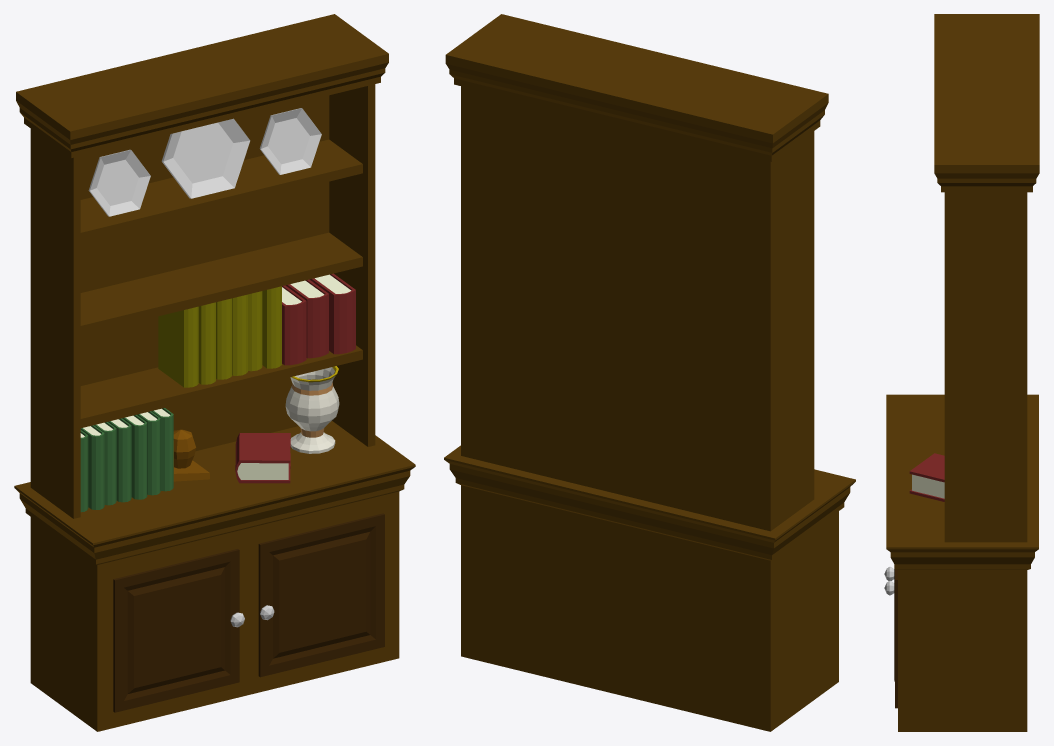
Rendered from cabinet_shelves.fbx.
3 views of the same model, side by side, from view 1: azimuth 30°, elevation 25°; view 2: azimuth 150°, elevation 25°; view 3: azimuth 270°, elevation 25° (orthographic). The views are drawn at different scales.
Visible parts, largest first — view 1: shelves_short, cabinet, doors, plates, yellow_section, green_section, red_section, vase1, book_red_turned, bookend_r; view 2: shelves_short, cabinet; view 3: shelves_short, cabinet, book_red_turned, doors.
Boxes of the visible parts, bbox=[...] form: shelves_short: bbox=[16, 14, 388, 518]; cabinet: bbox=[14, 421, 415, 731]; doors: bbox=[113, 513, 384, 712]; plates: bbox=[88, 108, 321, 216]; yellow_section: bbox=[158, 286, 281, 387]; green_section: bbox=[80, 408, 173, 512]; red_section: bbox=[282, 273, 355, 365]; vase1: bbox=[285, 366, 339, 453]; book_red_turned: bbox=[235, 433, 290, 483]; bookend_r: bbox=[173, 429, 209, 481]; shelves_short: bbox=[445, 14, 828, 531]; cabinet: bbox=[444, 445, 855, 731]; shelves_short: bbox=[934, 14, 1039, 542]; cabinet: bbox=[886, 394, 1038, 731]; book_red_turned: bbox=[909, 453, 944, 501]; doors: bbox=[894, 569, 897, 708].
Bounding box in the file's own units: 2.04 × 3.56 × 0.8771.
